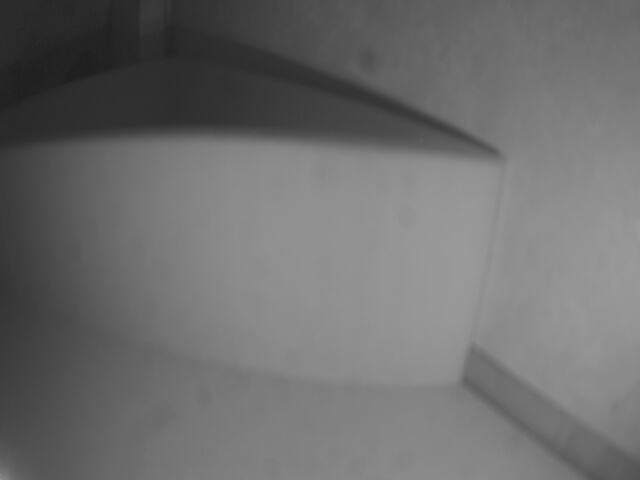Red: (1, 144, 503, 379)
